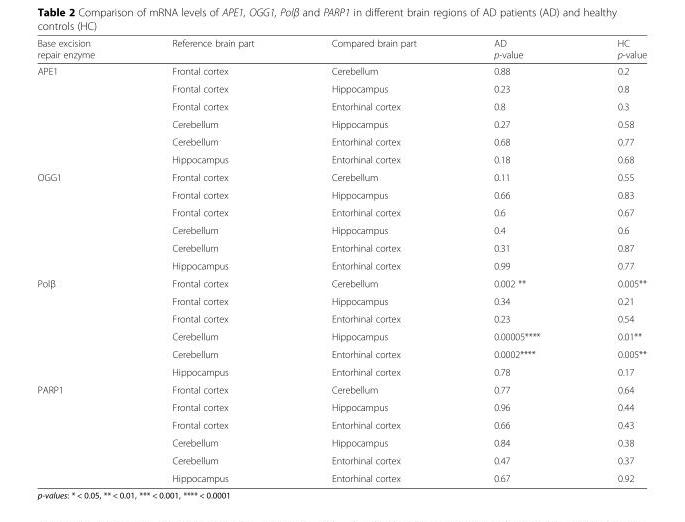table: (36, 37, 646, 483)
table column: (292, 37, 454, 483), (132, 37, 292, 483), (454, 37, 578, 483), (36, 37, 132, 483), (578, 37, 646, 483)
table column header: (36, 37, 646, 62)
table row: (36, 37, 646, 62), (36, 79, 646, 97), (36, 114, 646, 132), (36, 132, 646, 150), (36, 150, 646, 168), (36, 185, 646, 203), (36, 203, 646, 221), (36, 238, 646, 256), (36, 273, 646, 291), (36, 291, 646, 309), (36, 309, 646, 327), (36, 327, 646, 345), (36, 362, 646, 380), (36, 380, 646, 398), (36, 415, 646, 433), (36, 433, 646, 451), (36, 62, 646, 79), (36, 97, 646, 114), (36, 168, 646, 185), (36, 221, 646, 238), (36, 256, 646, 273), (36, 345, 646, 362), (36, 398, 646, 415), (36, 451, 646, 468), (36, 468, 646, 483)
table spanning cell: (36, 273, 132, 380), (36, 62, 132, 168), (36, 168, 132, 273), (36, 380, 132, 483)
